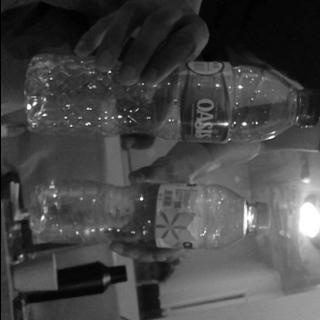plastic_bottles: (23, 53, 320, 145), (27, 182, 271, 250)
